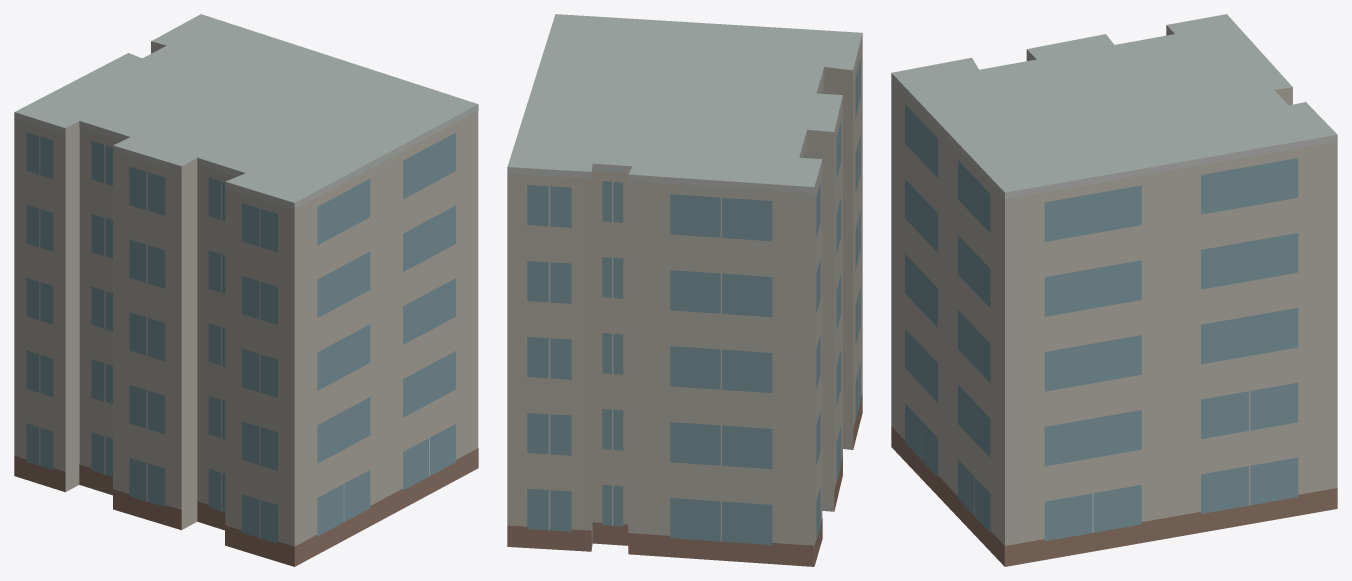
File: survey-upis-32862636.glb
The picture shows the model from 3 angles, left to right: view 1: azimuth 30°, elevation 25°; view 2: azimuth 150°, elevation 25°; view 3: azimuth 270°, elevation 25°; orthographic projection. The views are drawn at different scales.
Parts seen in each view (by area): view 1: survey-upis-32862636.tmp; view 2: survey-upis-32862636.tmp; view 3: survey-upis-32862636.tmp.
Part boxes in pixels (box(x1,y1,x2,y2)): survey-upis-32862636.tmp: box(14, 14, 478, 566); survey-upis-32862636.tmp: box(507, 14, 862, 566); survey-upis-32862636.tmp: box(891, 14, 1337, 566).
Size of the model in its own units: 14.04 by 13.7 by 14.82.
